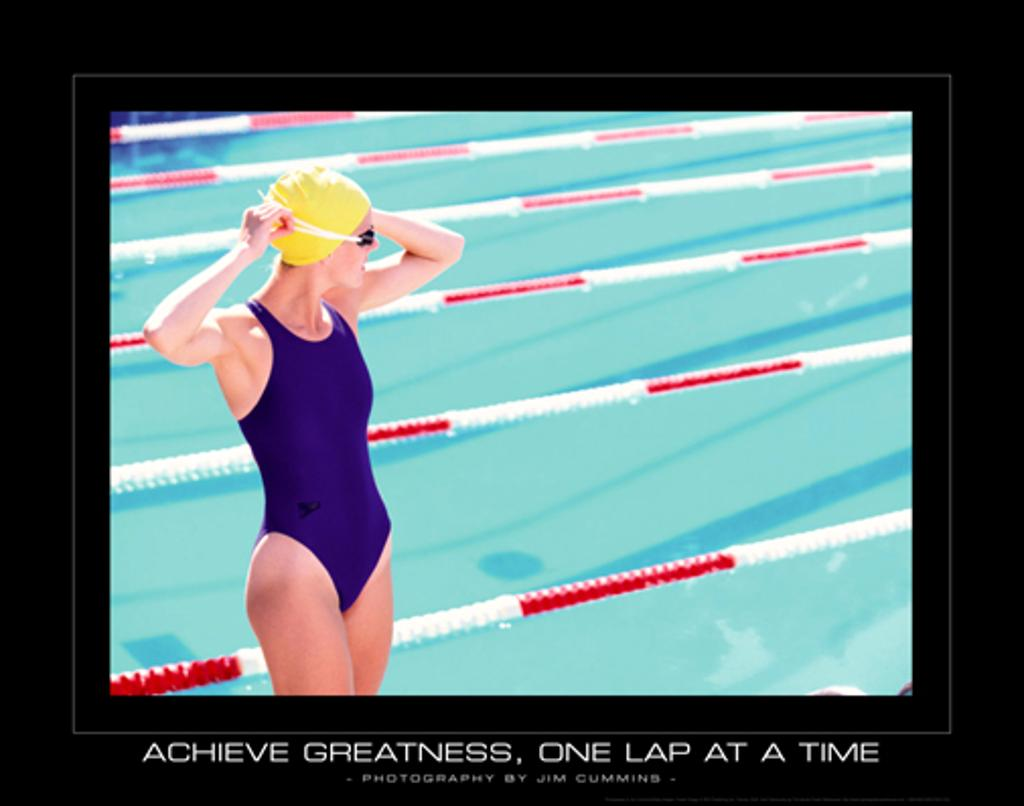face: (326, 198, 382, 286)
